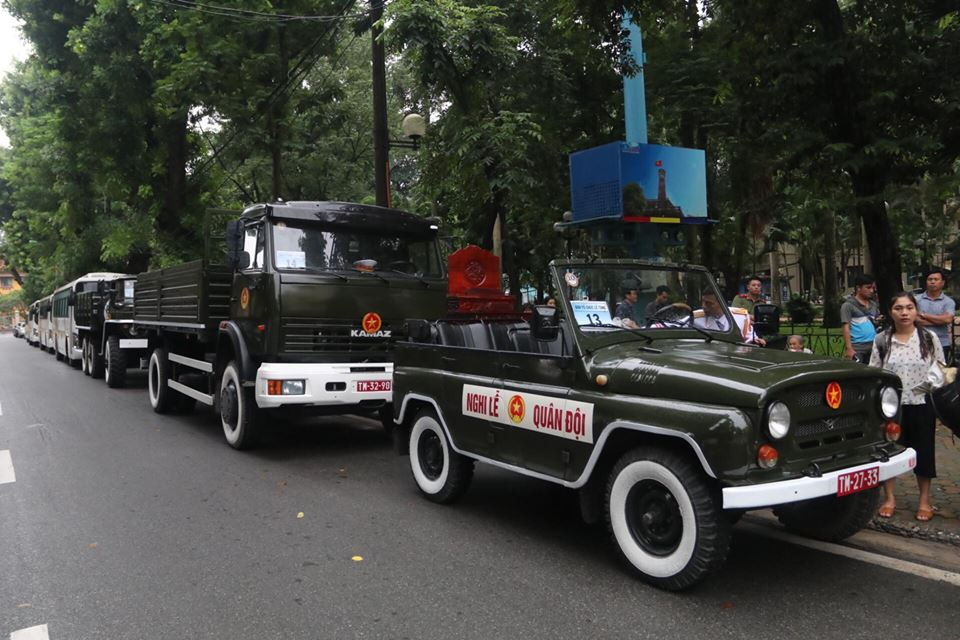plate: (831, 462, 886, 498), (355, 373, 391, 399)
